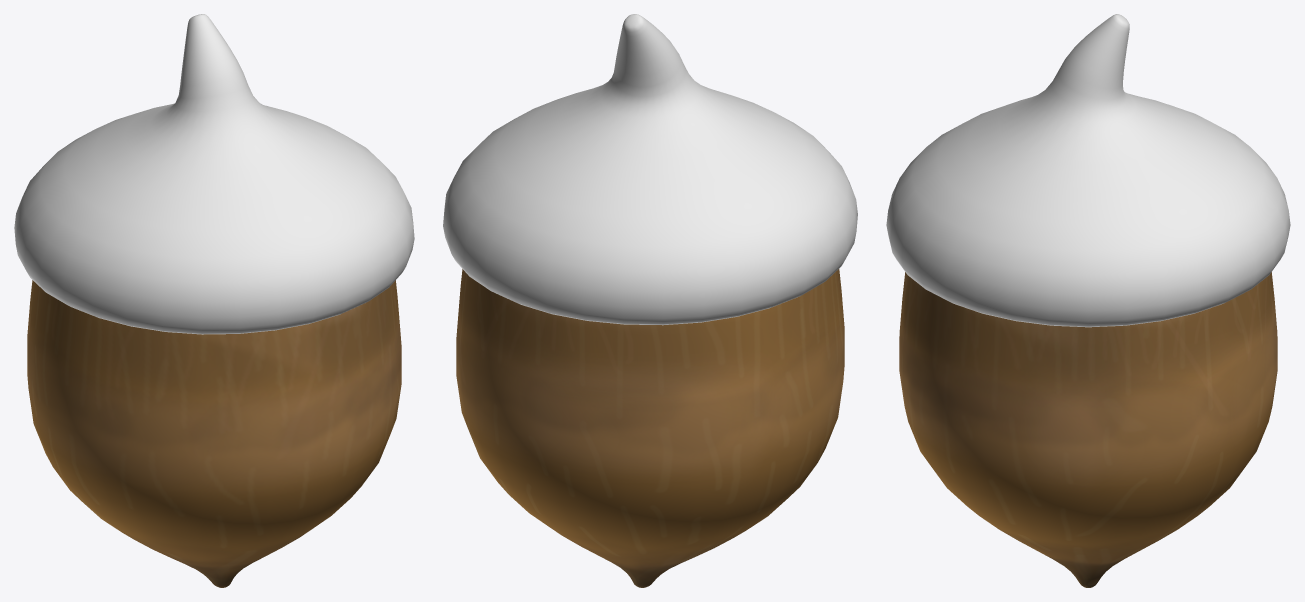
Rendered from Acorn.fbx.
The picture shows the model from 3 angles, left to right: view 1: azimuth 30°, elevation 25°; view 2: azimuth 150°, elevation 25°; view 3: azimuth 270°, elevation 25°; orthographic projection. The views are drawn at different scales.
Visible parts, largest first — view 1: Circle, Circle.001; view 2: Circle, Circle.001; view 3: Circle, Circle.001.
Boxes of the visible parts, x1,y1,x2,y2 form: Circle: (14,14,414,334); Circle.001: (27,280,401,587); Circle: (443,14,857,325); Circle.001: (456,269,844,587); Circle: (886,14,1290,327); Circle.001: (899,272,1277,587).
Size of the model in its own units: 178 by 277 by 178.
